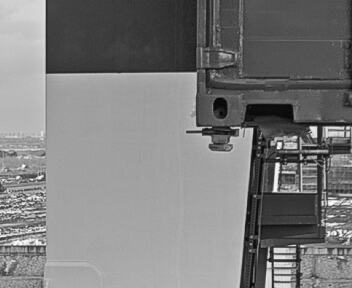twist_lock_1: (195, 121, 241, 157)
